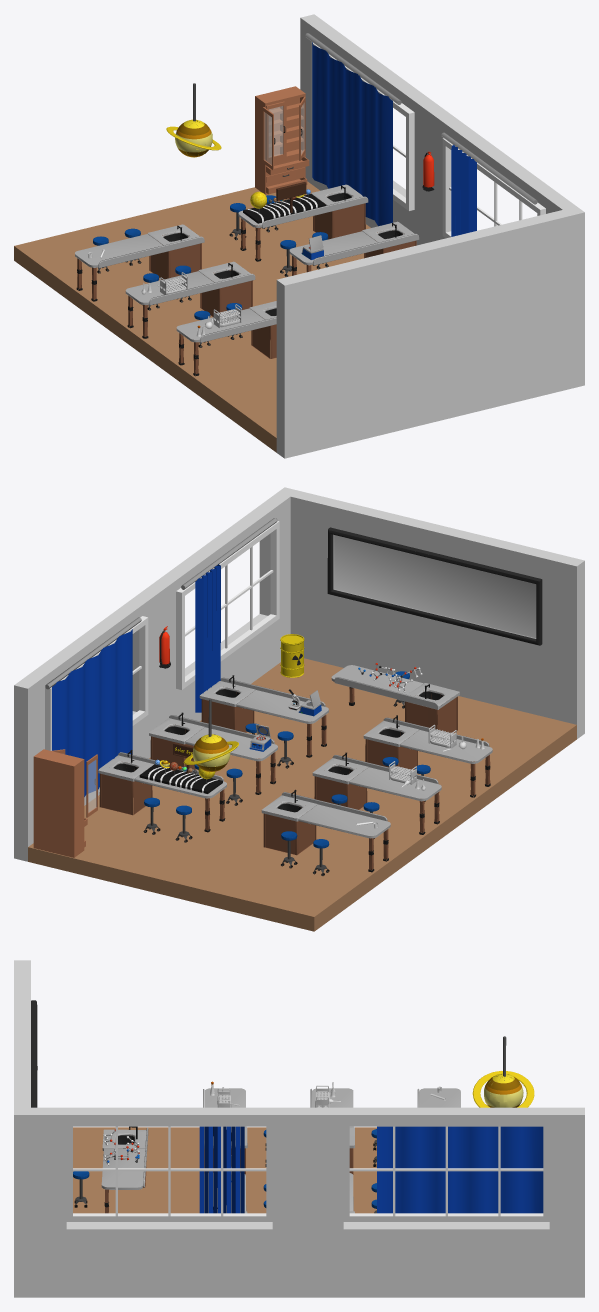
The model's file is chemlab20.glb.
3 renders of one model, top to bottom at view 1: azimuth 30°, elevation 25°; view 2: azimuth 150°, elevation 25°; view 3: azimuth 270°, elevation 25°, orthographic. The views are drawn at different scales.
Parts seen in each view (by area): view 1: CHEMISTRYlabdemoscene_3; view 2: CHEMISTRYlabdemoscene_3; view 3: CHEMISTRYlabdemoscene_3.
Part boxes in pixels (<box>): CHEMISTRYlabdemoscene_3: <box>14,14,584,458</box>; CHEMISTRYlabdemoscene_3: <box>14,487,584,931</box>; CHEMISTRYlabdemoscene_3: <box>14,960,584,1297</box>.
Size of the model in its own units: 6.44 by 3.54 by 10.03.
Materials: 3 (2 with a texture image).
